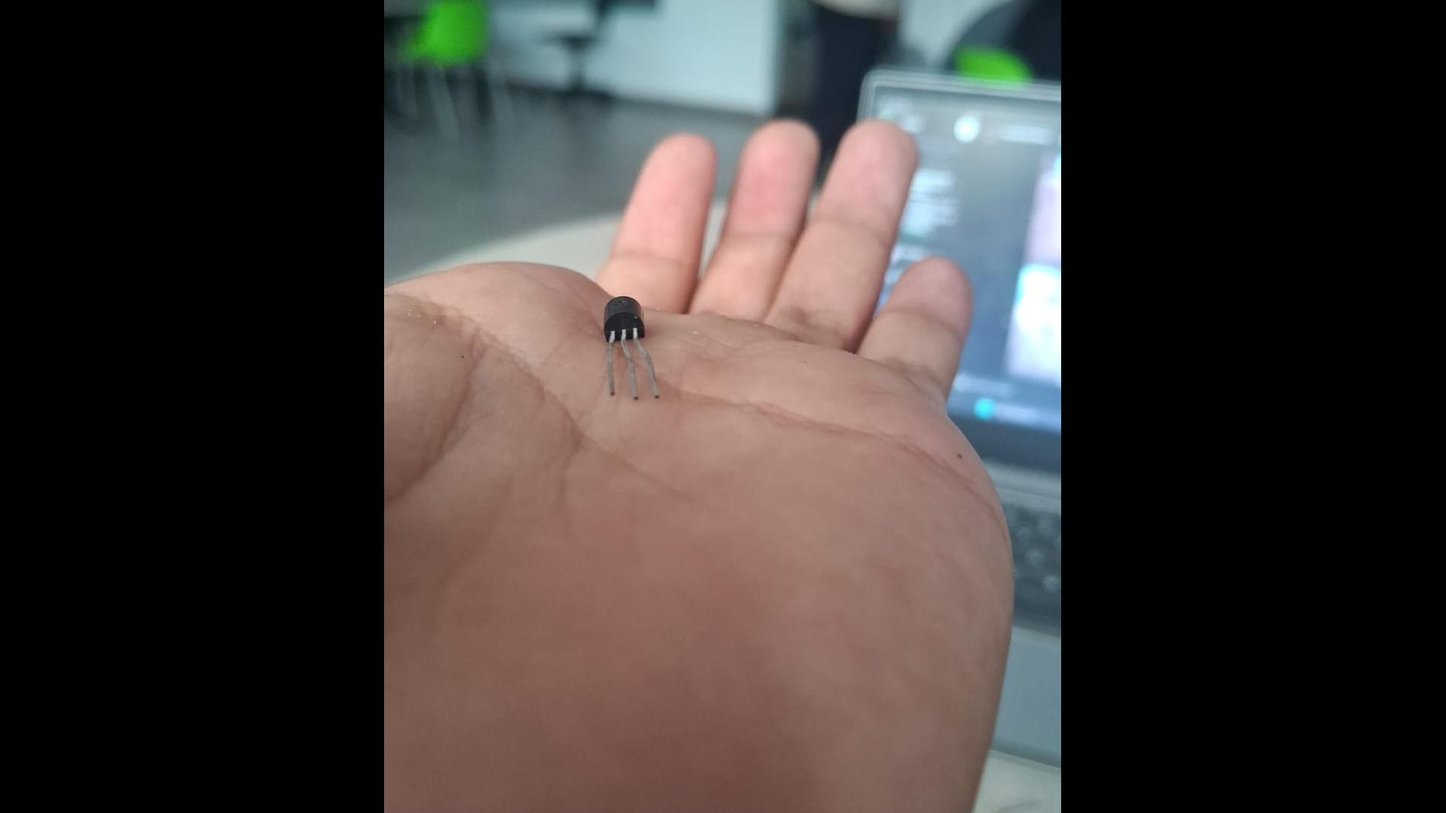Transistor: (603, 295, 660, 400)
